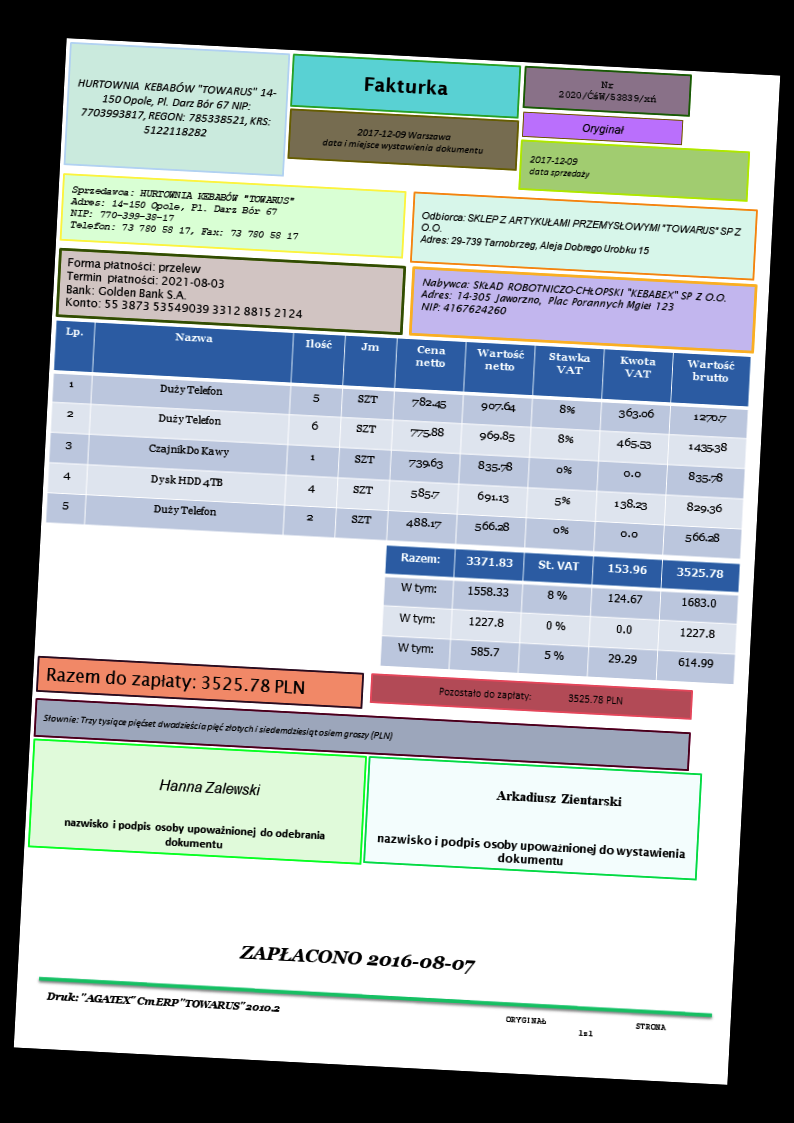Table: (44, 318, 753, 561), (378, 542, 741, 683)
TextBox: (415, 204, 745, 266), (415, 271, 730, 332), (61, 254, 307, 321), (65, 179, 304, 245), (372, 826, 691, 875), (72, 73, 280, 146), (38, 707, 396, 745), (59, 811, 331, 859), (40, 658, 308, 700), (236, 938, 480, 979), (42, 987, 287, 1019), (317, 120, 487, 158), (433, 680, 629, 710), (502, 1011, 669, 1046), (493, 785, 626, 814), (556, 74, 662, 107), (154, 770, 263, 802), (358, 71, 451, 99), (525, 151, 593, 185), (579, 118, 628, 138)
